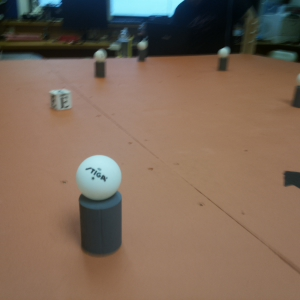blockE: (49, 87, 75, 113)
corner: (244, 19, 259, 58)
obstacle: (76, 154, 123, 257), (94, 50, 108, 83), (289, 73, 300, 110), (217, 47, 230, 71), (137, 43, 149, 63)
start: (282, 168, 299, 193)
